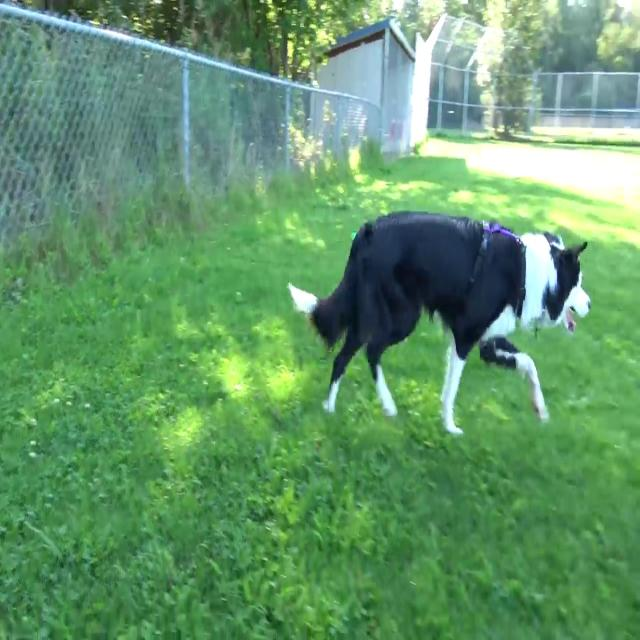Dog: (287, 211, 592, 436)
